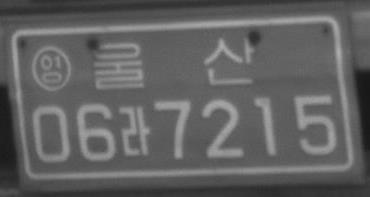0: (32, 103, 70, 164)
1: (248, 97, 285, 156)
2: (201, 98, 244, 159)
5: (293, 94, 337, 156)
6: (76, 102, 116, 163)
7: (154, 99, 191, 160)
라: (118, 105, 150, 155)
영: (31, 46, 70, 92)
울산_D: (93, 37, 256, 90)
